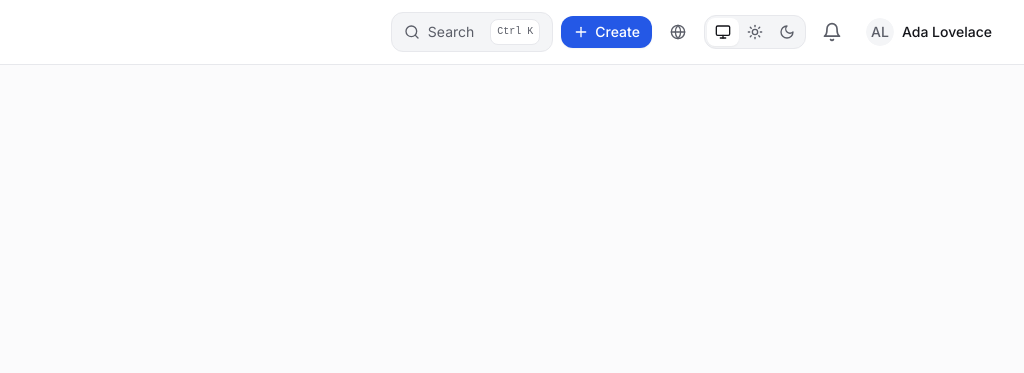
Test: MarketingHeader — create workspace (first workspace only) › exposes a "New workspace" action in the ALWAYS-visible profile menu
The width and height of the screenshot is (1024, 373).
Click the text "Ada Lovelace". click: (947, 32)
box: [902, 22, 992, 42]
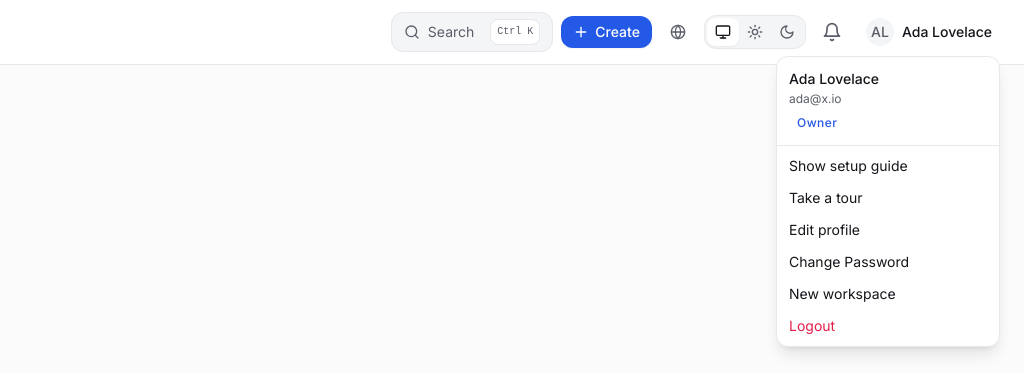
Now the menu item "New workspace" is shown, box [789, 285, 896, 302]
